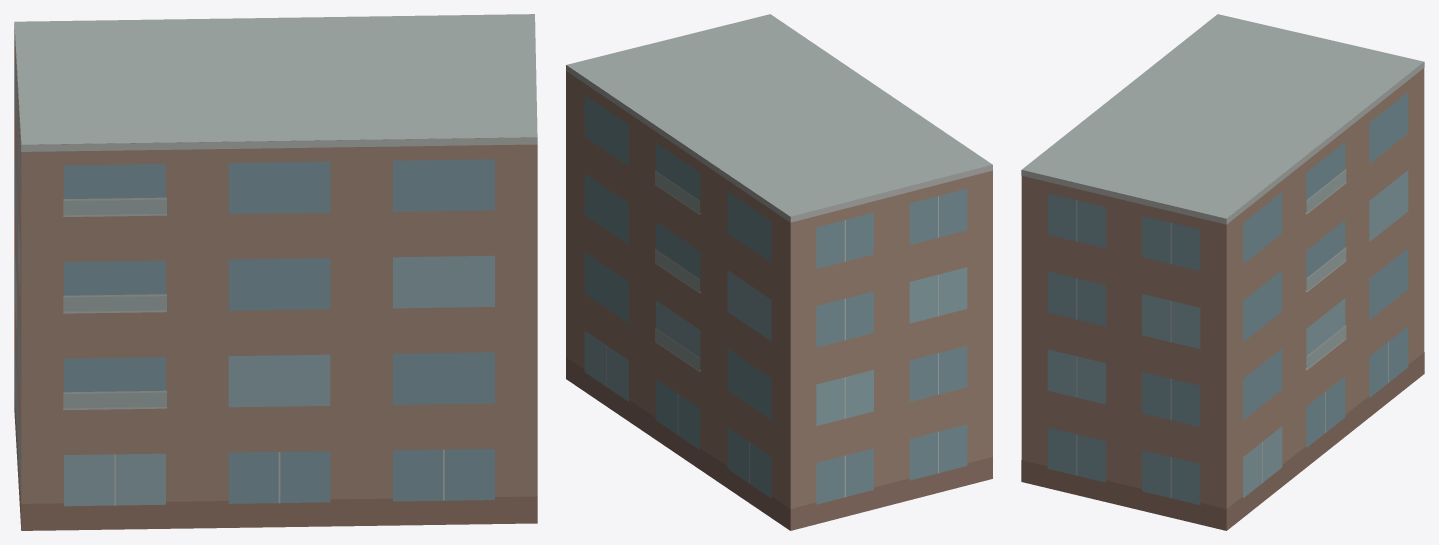
Rendered from survey-upis-32759680.glb.
3 views of the same model, side by side, from view 1: azimuth 30°, elevation 25°; view 2: azimuth 150°, elevation 25°; view 3: azimuth 270°, elevation 25° (orthographic). The views are drawn at different scales.
Visible parts, largest first — view 1: survey-upis-32759680.tmp; view 2: survey-upis-32759680.tmp; view 3: survey-upis-32759680.tmp.
Part boxes in pixels (<box>): survey-upis-32759680.tmp: <box>14,14,537,530</box>; survey-upis-32759680.tmp: <box>566,14,992,530</box>; survey-upis-32759680.tmp: <box>1021,14,1424,530</box>.
Size of the model in its own units: 18.23 by 12.95 by 15.16.
